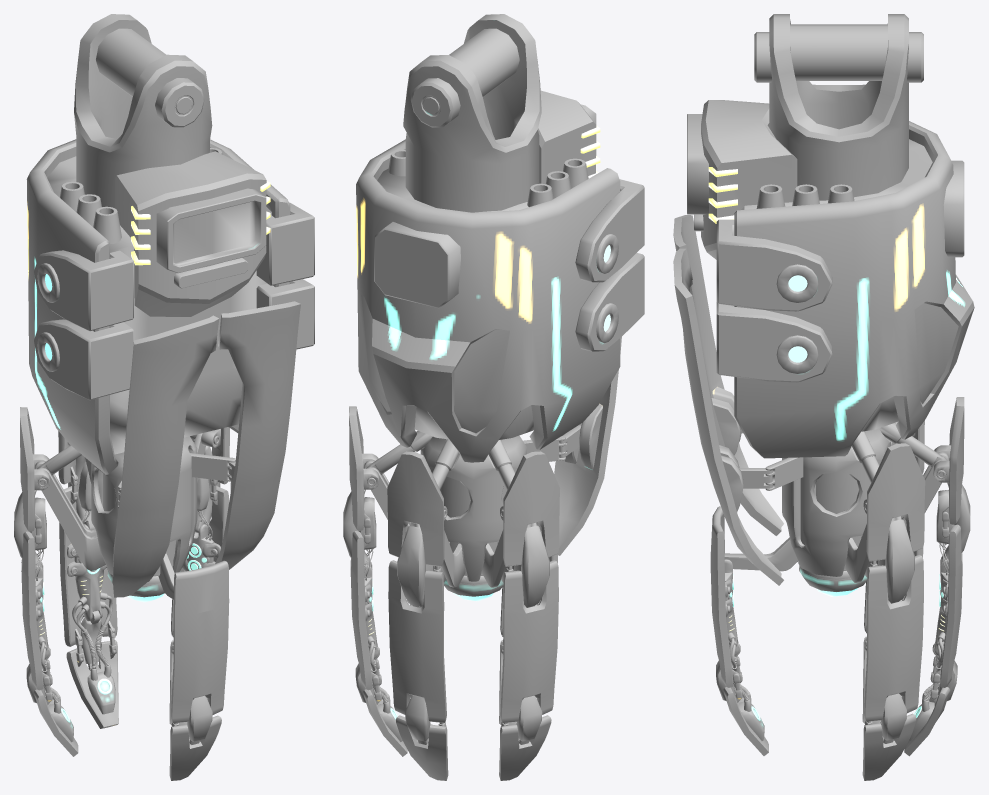
File: Player_GloveHand_Model.fbx
3 views of the same model, side by side, from view 1: azimuth 30°, elevation 25°; view 2: azimuth 150°, elevation 25°; view 3: azimuth 270°, elevation 25° (orthographic). The views are drawn at different scales.
Visible parts, largest first — view 1: Cylinder.009; view 2: Cylinder.009; view 3: Cylinder.009.
Boxes of the visible parts, bbox=[...] form: Cylinder.009: bbox=[14, 14, 314, 780]; Cylinder.009: bbox=[343, 14, 644, 780]; Cylinder.009: bbox=[673, 14, 974, 780].
Bounding box in the file's own units: 29.13 × 85.75 × 31.85.
